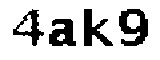4: (10, 5, 46, 52)
9: (114, 5, 153, 49)
a: (47, 15, 79, 51)
k: (80, 4, 115, 53)
